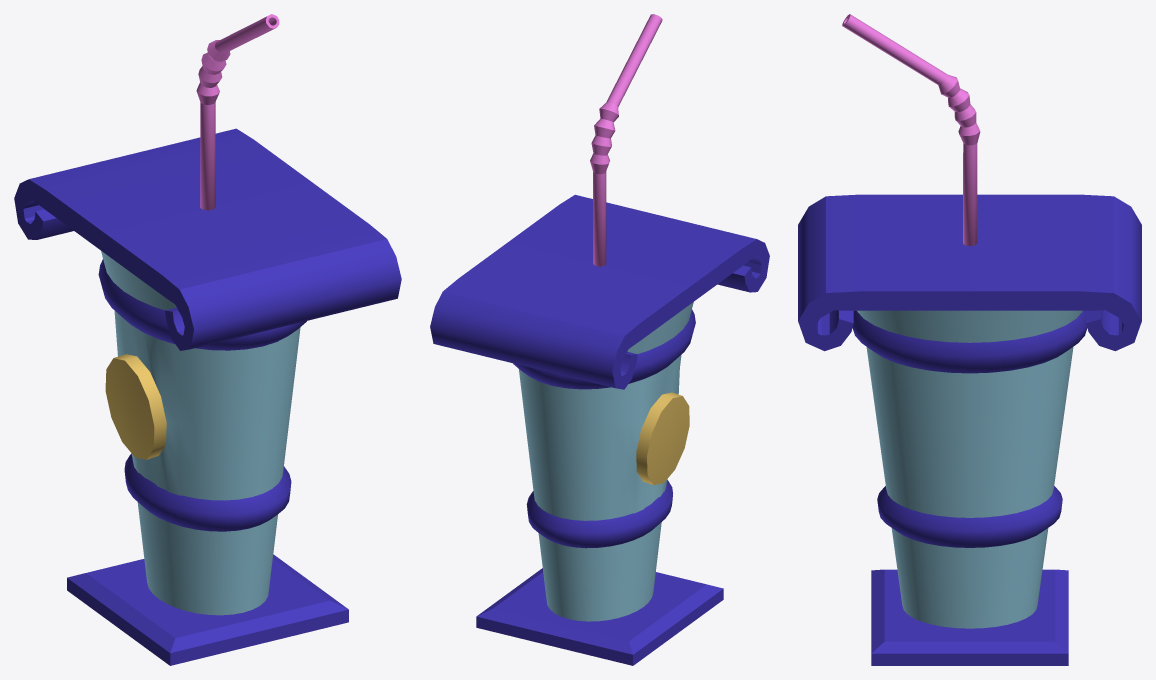
Rendered from pickUpRoman.fbx.
3 renders of one model, left to right at view 1: azimuth 30°, elevation 25°; view 2: azimuth 150°, elevation 25°; view 3: azimuth 270°, elevation 25°, orthographic. The views are drawn at different scales.
Visible parts, largest first — view 1: pickUpRoman.003; view 2: pickUpRoman.003; view 3: pickUpRoman.003.
Boxes of the visible parts, <box> form: pickUpRoman.003: <box>14,14,401,665</box>; pickUpRoman.003: <box>430,14,769,665</box>; pickUpRoman.003: <box>798,14,1141,665</box>.
Bounding box in the file's own units: 17.05 × 50.03 × 25.58.
